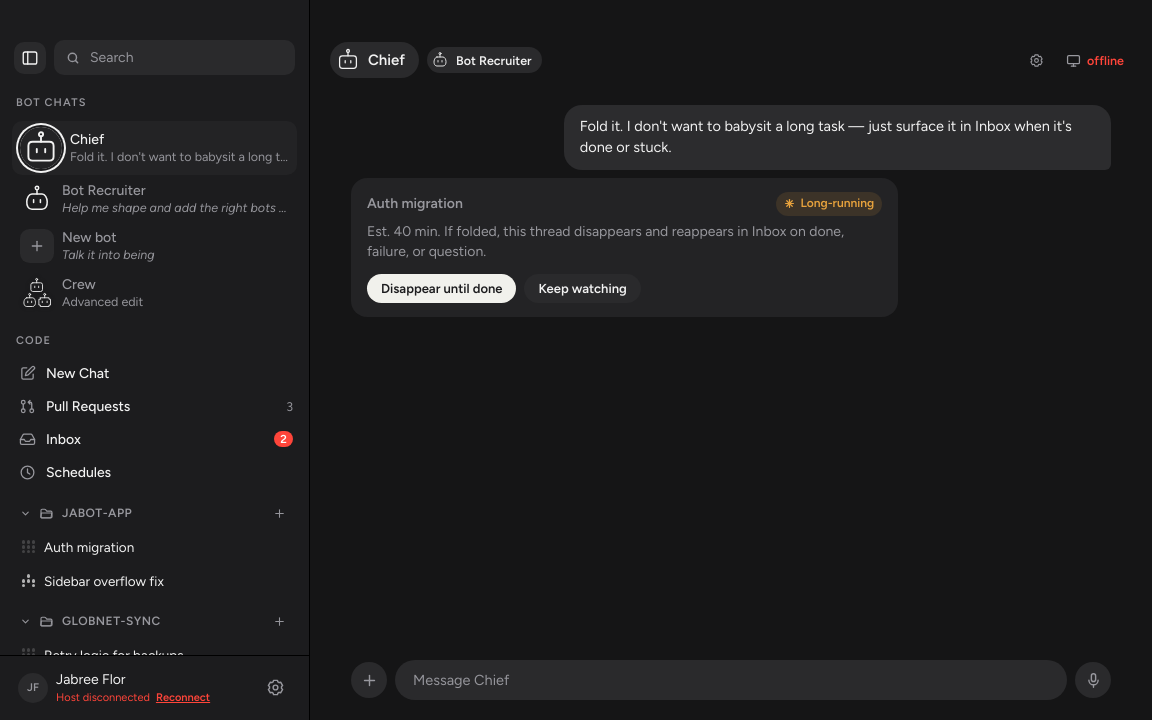
Test: host disconnect recovery › shows Host disconnected and Reconnect, then restores after hello
(page scrolled)
Expected: the button named "Settings" is shown, x1=259 y1=672 x2=291 y2=704
Expected: the text "Host disconnected" is shown, x1=56 y1=690 x2=150 y2=706
Click the button "Reconnect": x=183, y=698 x1=156 y1=690 x2=210 y2=706
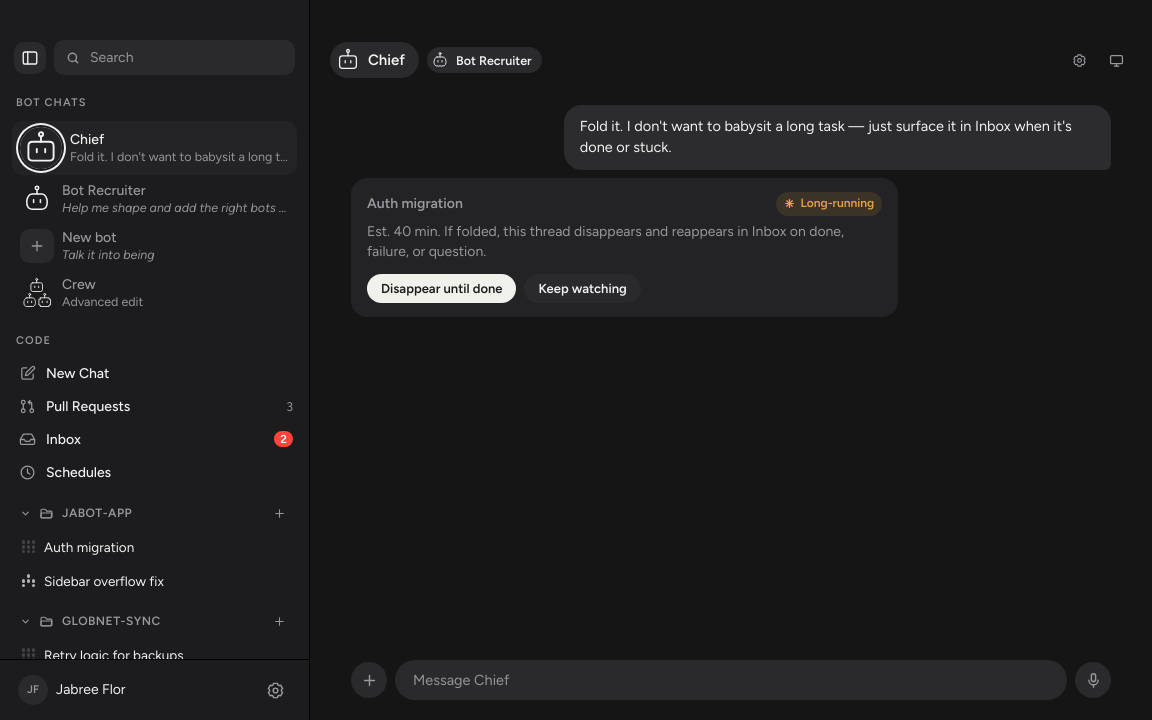
Result: the text "Host disconnected" is gone
Result: the button "Reconnect" is gone
